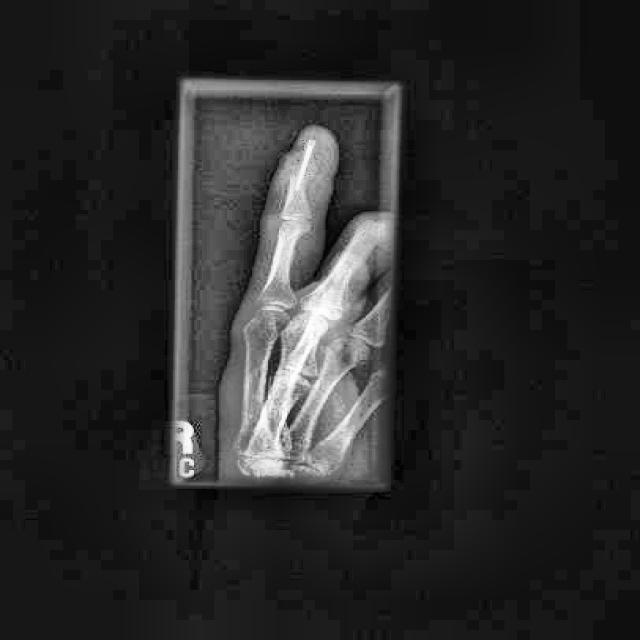fingers positive: (279, 167, 318, 190)
